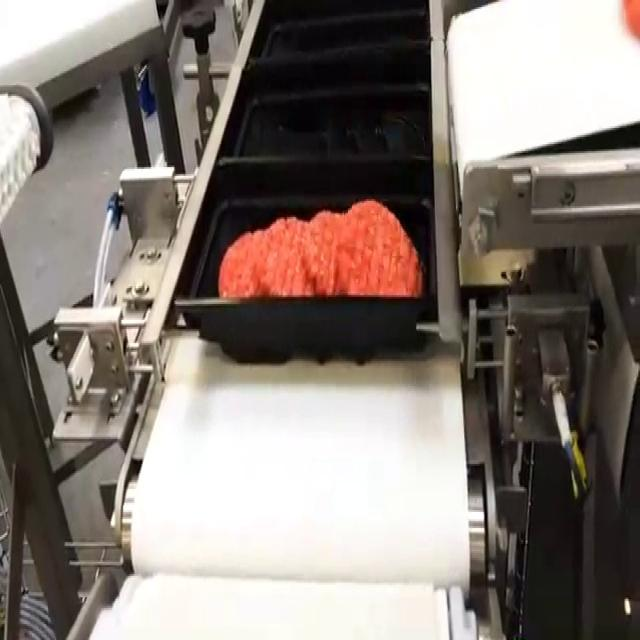4-hamburguer: (219, 199, 422, 297)
